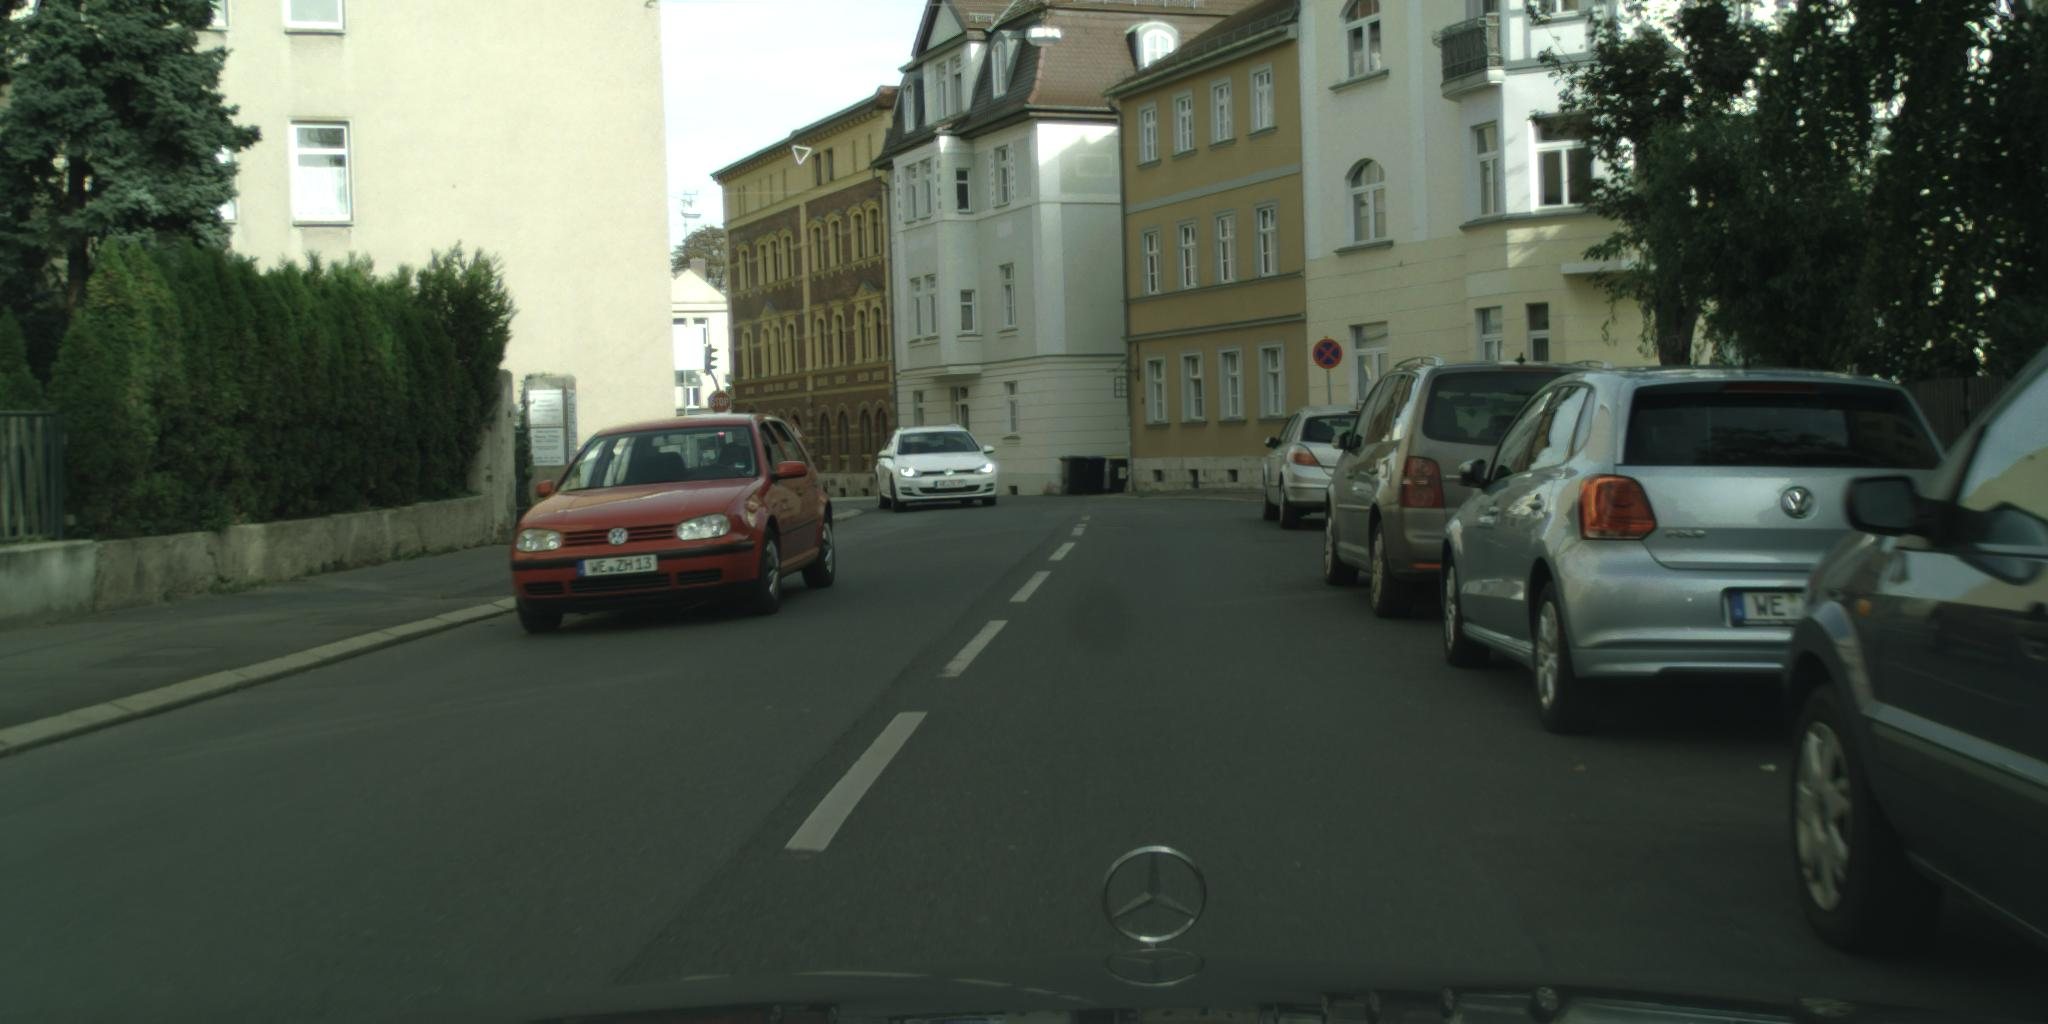car: (1439, 366, 1949, 739), (1783, 344, 2048, 964), (1324, 354, 1618, 623), (512, 414, 836, 636), (1263, 408, 1366, 530), (876, 424, 998, 515)
